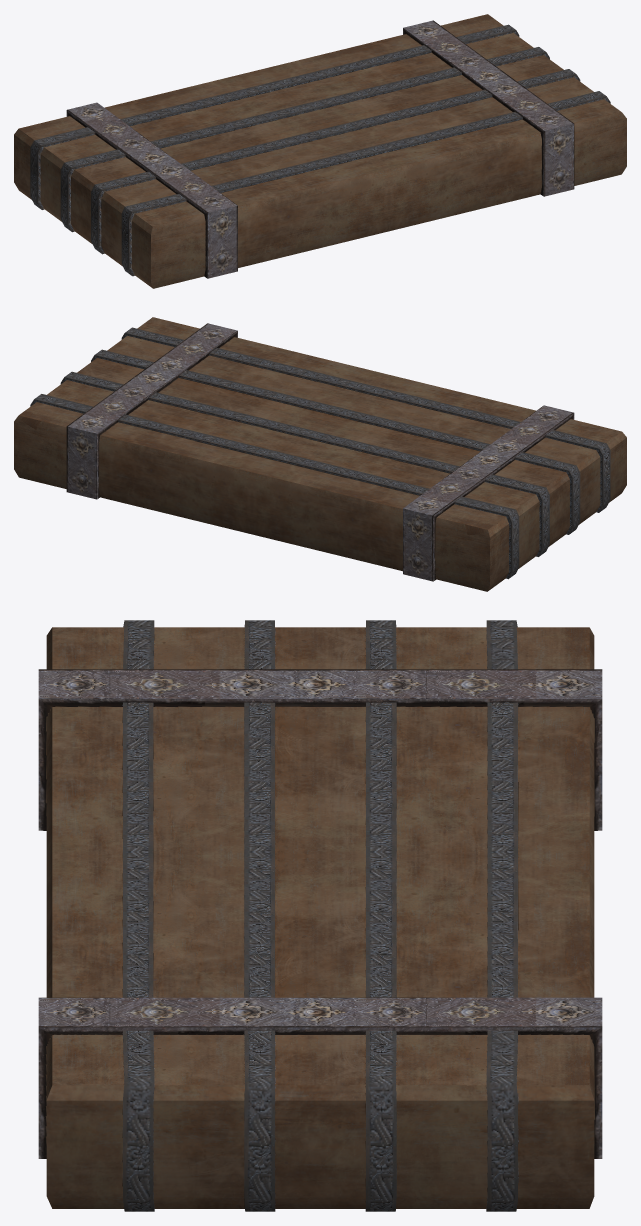
The model's file is TrunkLid.fbx.
3 renders of one model, top to bottom at view 1: azimuth 30°, elevation 25°; view 2: azimuth 150°, elevation 25°; view 3: azimuth 270°, elevation 25°, orthographic. The views are drawn at different scales.
Visible parts, largest first — view 1: TrunkLid; view 2: TrunkLid; view 3: TrunkLid.
Part boxes in pixels (x1,y1,x2,y2): TrunkLid: (14,14,626,288); TrunkLid: (14,317,626,591); TrunkLid: (38,620,602,1211).
Bounding box in the file's own units: 101 × 13.3 × 51.43.
1 material, 1 textured.
